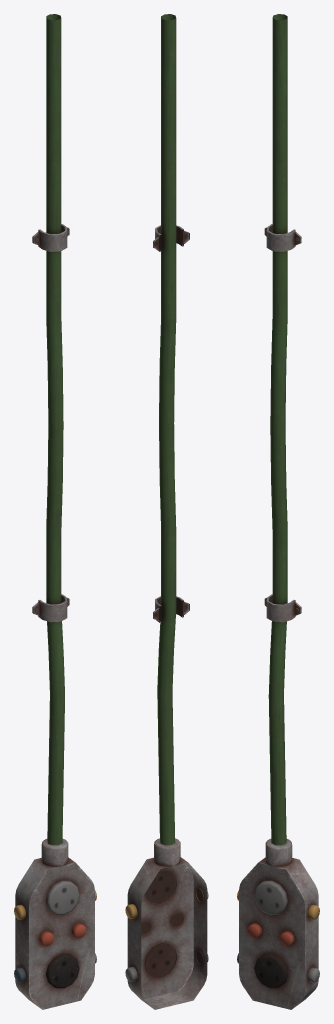
The model's file is Cables01_02.glb.
The picture shows the model from 3 angles, left to right: view 1: azimuth 30°, elevation 25°; view 2: azimuth 210°, elevation 25°; view 3: azimuth 330°, elevation 25°; orthographic projection.
Parts seen in each view (by area): view 1: Circle; view 2: Circle; view 3: Circle.
Part boxes in pixels (<box>): Circle: <box>14,14,96,1009</box>; Circle: <box>125,14,208,1009</box>; Circle: <box>237,14,319,1009</box>.
Bounding box in the file's own units: 0.1422 × 1.74 × 0.0531.
1 material, 1 textured.
